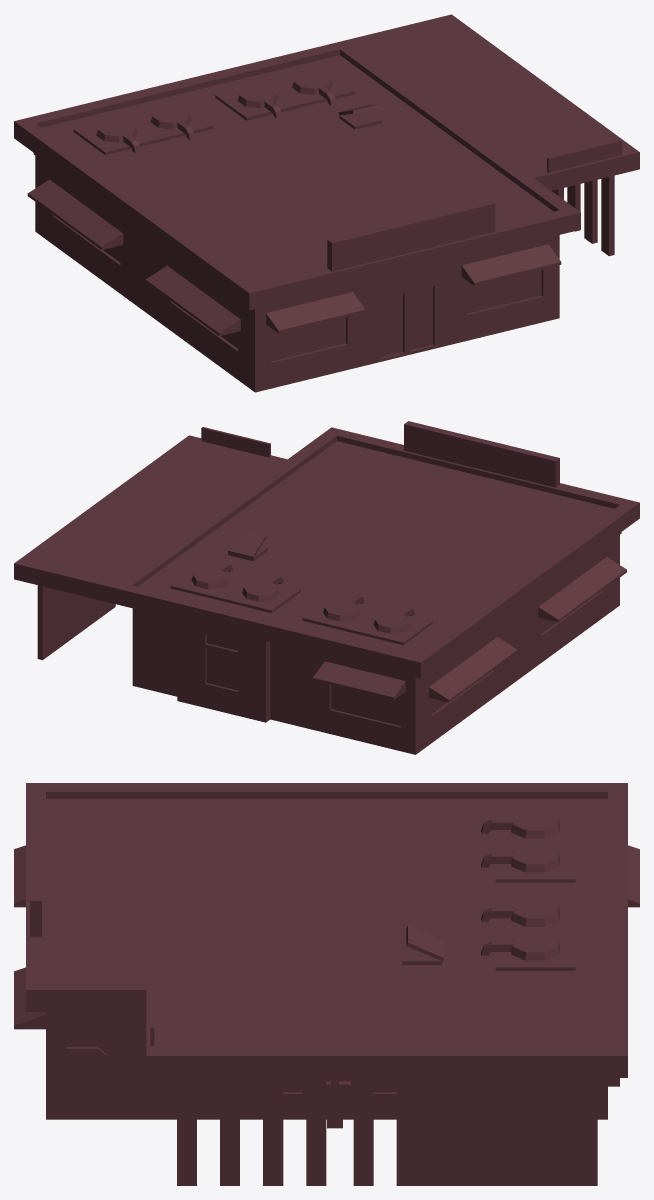
File: building-burger-joint.fbx
3 renders of one model, top to bottom at view 1: azimuth 30°, elevation 25°; view 2: azimuth 150°, elevation 25°; view 3: azimuth 270°, elevation 25°, orthographic. The views are drawn at different scales.
Visible parts, largest first — view 1: building-burger-joint; view 2: building-burger-joint; view 3: building-burger-joint.
Boxes of the visible parts, bbox=[...] form: building-burger-joint: bbox=[14, 14, 639, 392]; building-burger-joint: bbox=[14, 421, 639, 754]; building-burger-joint: bbox=[14, 783, 639, 1185].
Size of the model in its own units: 16.4 by 4.8 by 15.6.
